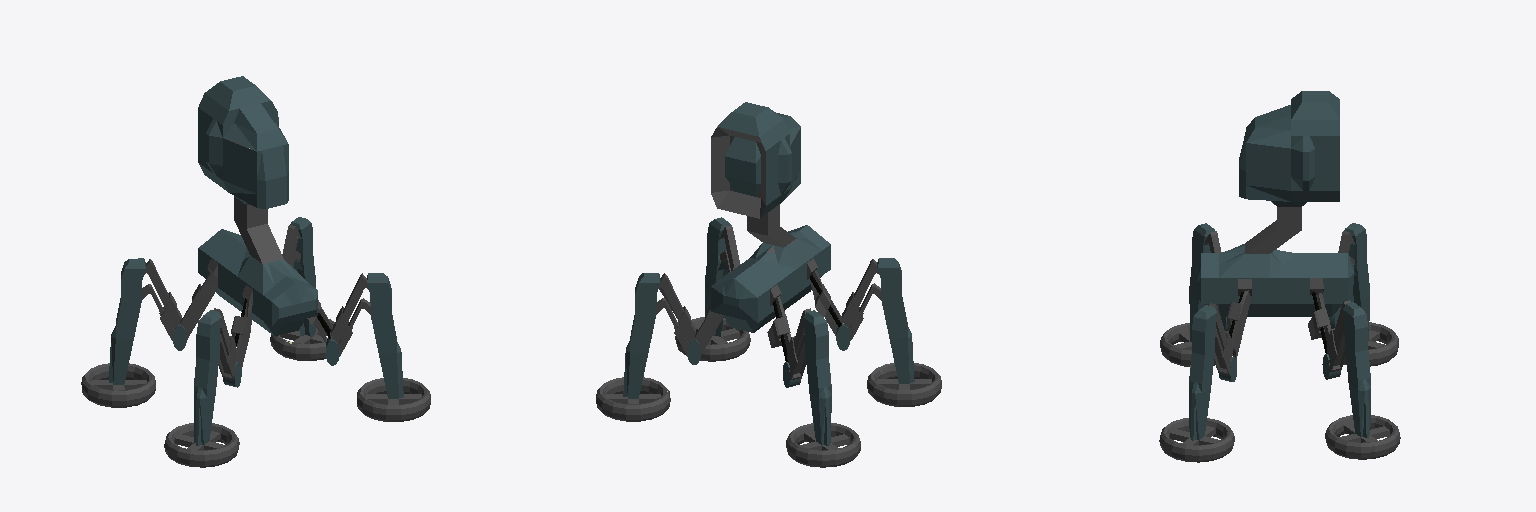
3 views of the same model, side by side, from view 1: azimuth 30°, elevation 25°; view 2: azimuth 150°, elevation 25°; view 3: azimuth 270°, elevation 25° (orthographic).
Visible parts, largest first — view 1: enemy_robot03; view 2: enemy_robot03; view 3: enemy_robot03.
Boxes of the visible parts, <box> form: enemy_robot03: <box>81,76,430,467</box>; enemy_robot03: <box>596,102,941,467</box>; enemy_robot03: <box>1159,91,1400,462</box>.
Size of the model in its own units: 1.68 by 1.98 by 1.36.
Materials: 2 (1 with a texture image).